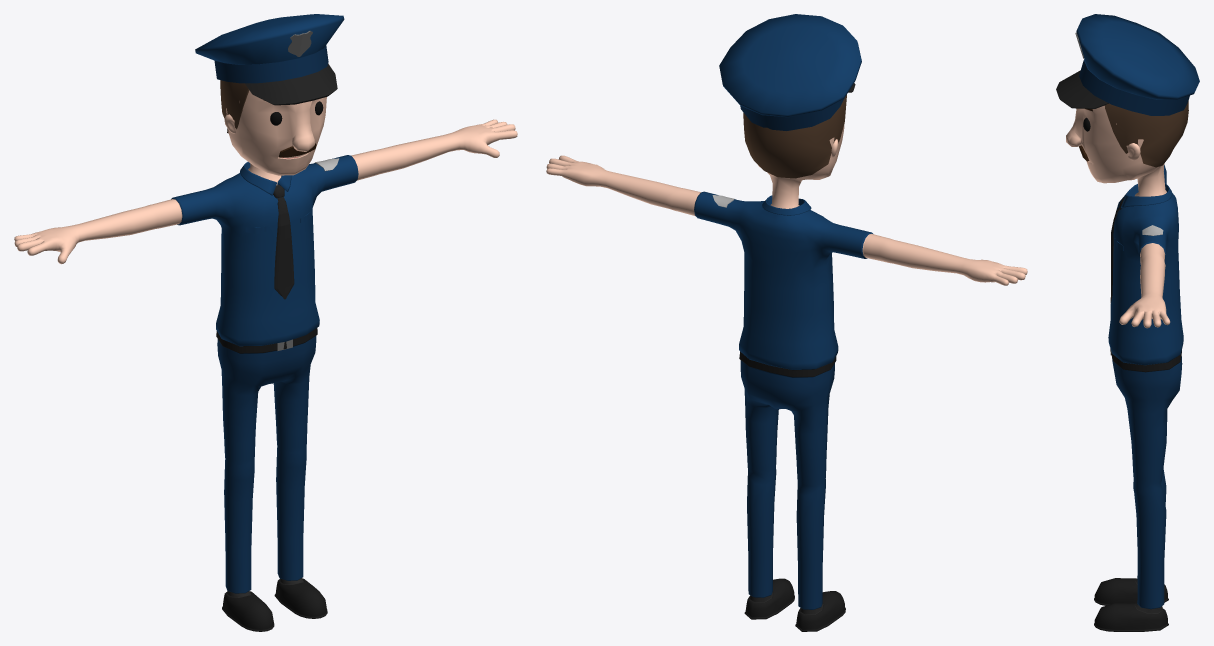
Rendered from CartoonMan008.obj.
3 views of the same model, side by side, from view 1: azimuth 30°, elevation 25°; view 2: azimuth 150°, elevation 25°; view 3: azimuth 270°, elevation 25° (orthographic). The views are drawn at different scales.
Visible parts, largest first — view 1: Police; view 2: Police; view 3: Police.
Boxes of the visible parts, x1,y1,x2,y2 form: Police: [14, 14, 517, 631]; Police: [546, 14, 1027, 631]; Police: [1056, 14, 1199, 631].
Size of the model in its own units: 157 by 182 by 40.65.
